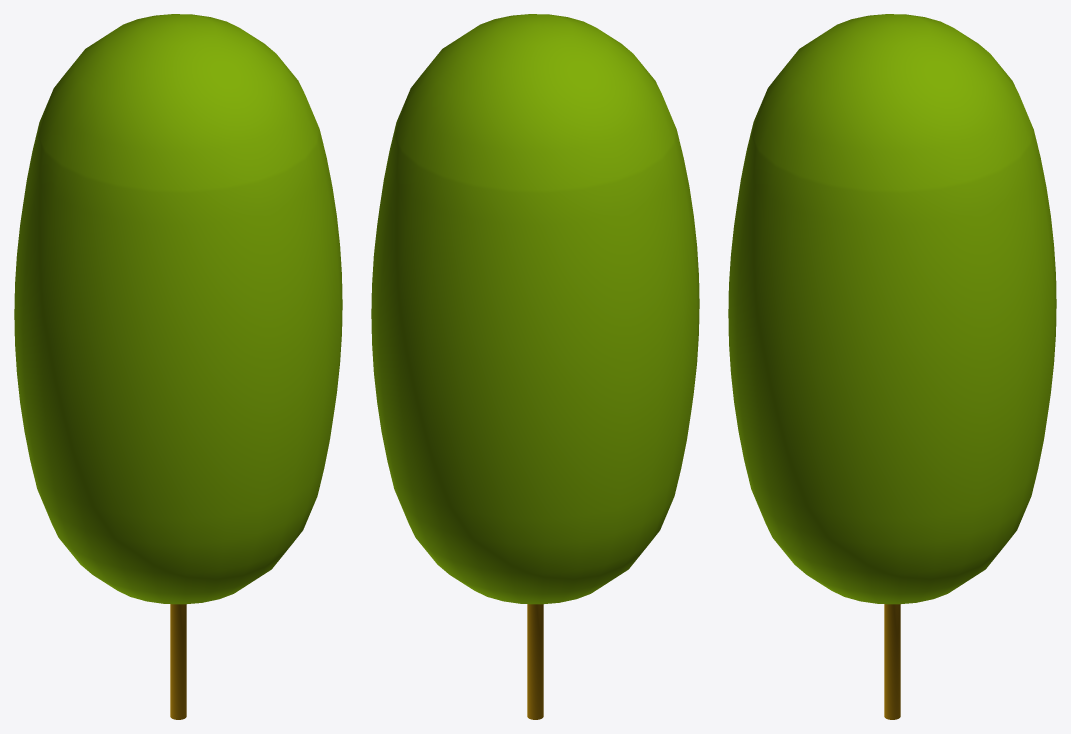
The model's file is LPo7m.glb.
3 renders of one model, left to right at view 1: azimuth 30°, elevation 25°; view 2: azimuth 150°, elevation 25°; view 3: azimuth 270°, elevation 25°, orthographic.
Visible parts, largest first — view 1: LPo7m; view 2: LPo7m; view 3: LPo7m.
Boxes of the visible parts, left/top/right/bottom form: LPo7m: left=14, top=14, right=342, bottom=719; LPo7m: left=371, top=14, right=699, bottom=719; LPo7m: left=728, top=14, right=1056, bottom=719.
Bounding box in the file's own units: 3.01 × 7 × 3.01.
